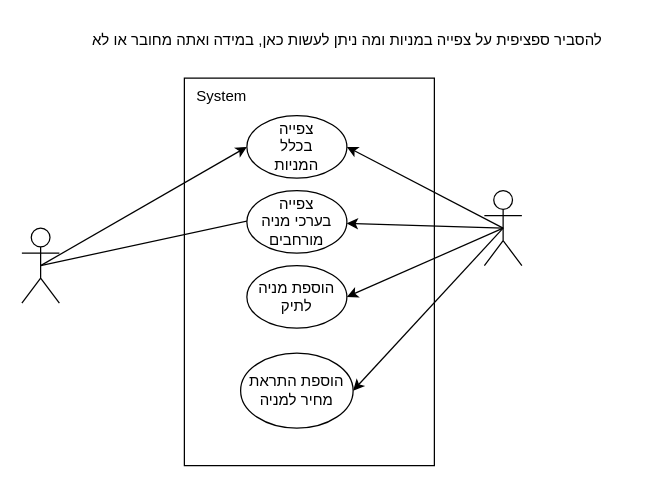
The diagram is 650 pixels wide and 488 high, and some of its shapes have lost their labels. Each missing label, with the centre of its shape:
Connected User: point (502, 227)
Other Users: point (40, 265)
